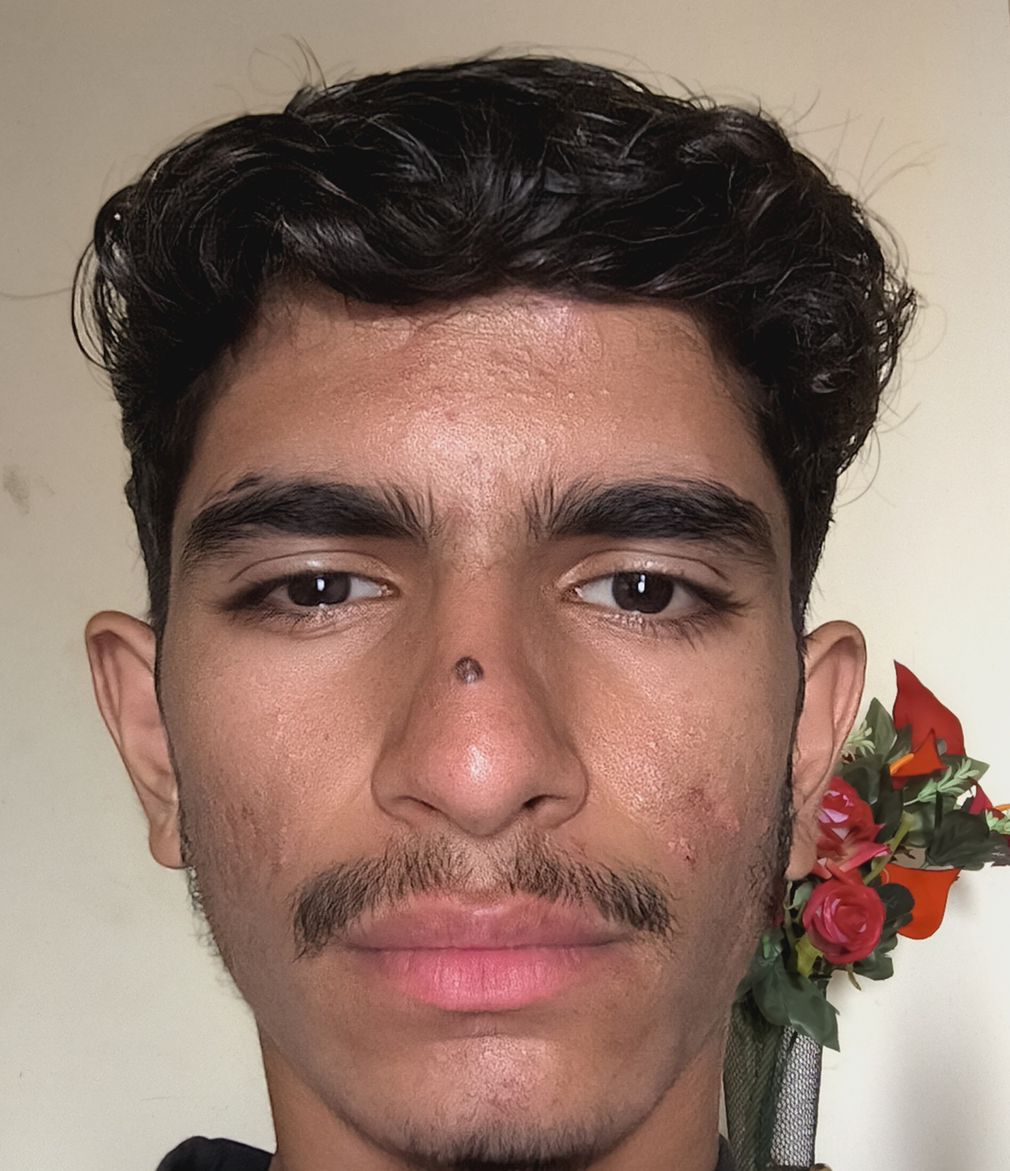closed_comedone: (443, 340, 486, 383), (566, 392, 577, 401), (601, 388, 611, 397), (538, 437, 547, 446)
nodule: (721, 799, 743, 836), (663, 835, 697, 857)
